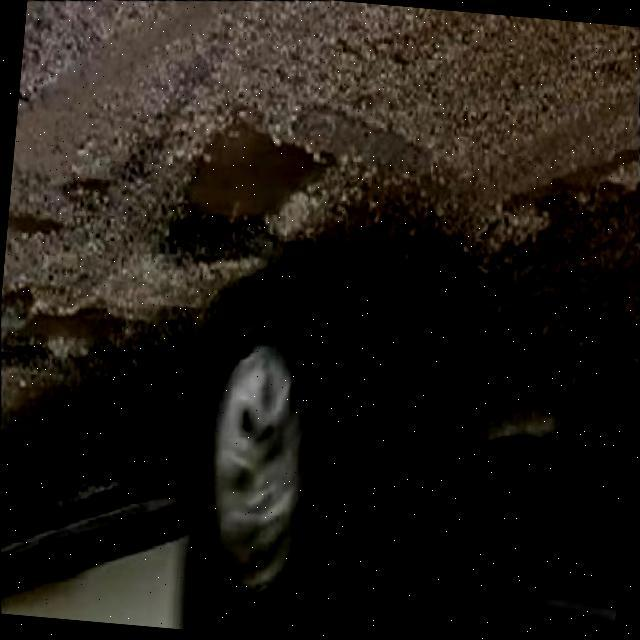Pothole: (170, 119, 334, 259), (2, 307, 137, 363)
